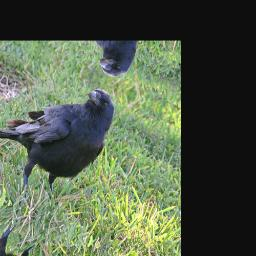Crow: (0, 49, 121, 220)
